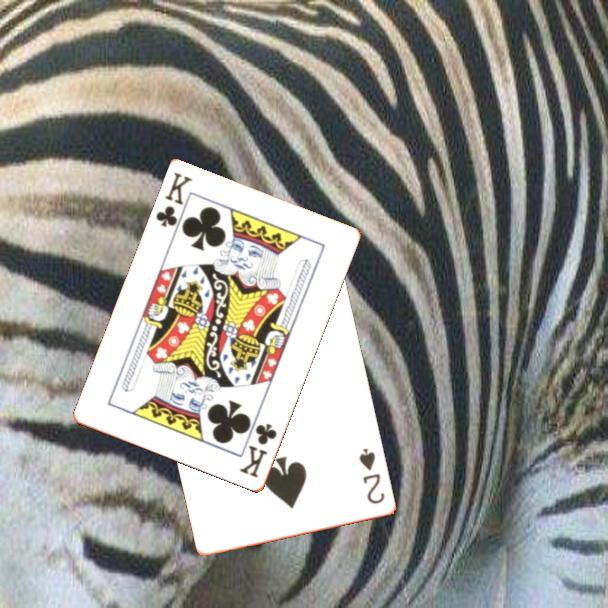c13: (236, 420, 280, 481), (152, 169, 195, 231)
s02: (356, 445, 388, 507)
